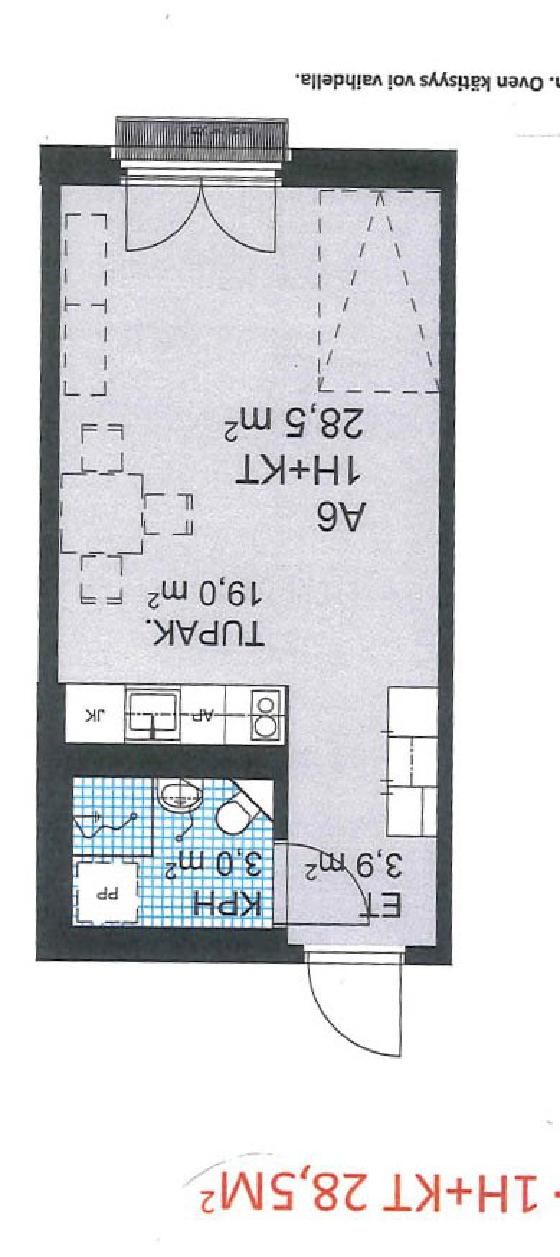door: (120, 164, 279, 265), (299, 947, 418, 1071), (263, 839, 375, 931)
zone: (62, 186, 437, 947), (70, 779, 271, 932)
